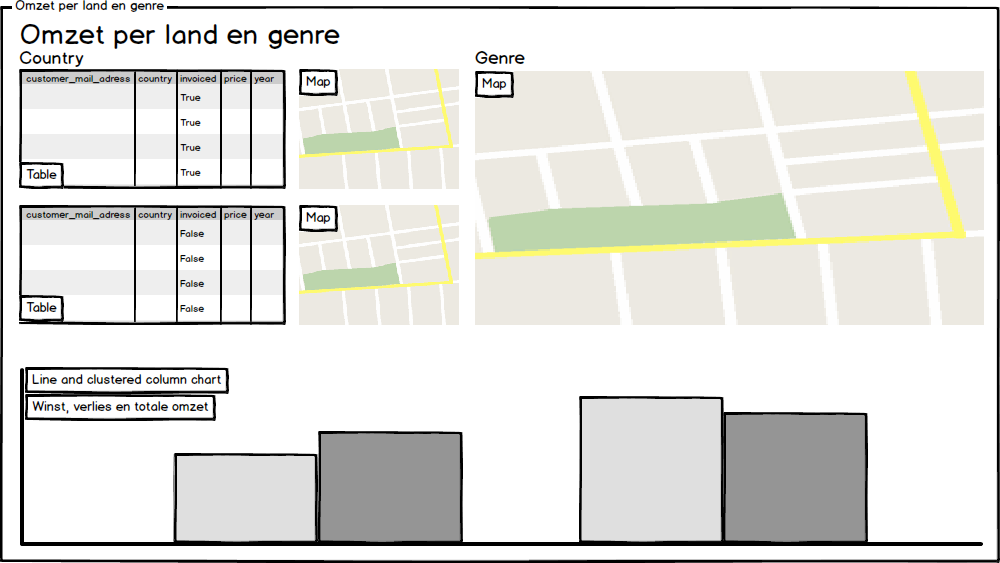

Layout of this report page (visuals, bound fields, positions):
{"tool":"powerbi","page":{"name":"Omzet per land en genre","canvas":[1280,720],"ordinal":1},"visuals":[{"type":"textbox","box":[10,0,391.9,48.1],"z":1},{"type":"tableEx","fields":{"Values":["Watchhistory.customer_mail_adress","Customer.country_name","Watchhistory.invoiced","Watchhistory.price","Watchhistory.watch_date.Variation.Date Hierarchy.Year"]},"box":[9.6,37.6,360.4,212.6],"z":2},{"type":"tableEx","fields":{"Values":["Watchhistory.customer_mail_adress","Customer.country_name","Watchhistory.invoiced","Watchhistory.price","Watchhistory.watch_date.Variation.Date Hierarchy.Year"]},"box":[9.6,259,360.4,250.2],"z":2},{"type":"map","fields":{"Category":["Customer.country_name"],"Size":["Watchhistory.price"],"Series":["Watchhistory.watch_date.Variation.Date Hierarchy.Year"]},"box":[377.9,30,280,210.8],"z":4},{"type":"map","fields":{"Category":["Customer.country_name"],"Size":["Watchhistory.price"],"Series":["Watchhistory.watch_date.Variation.Date Hierarchy.Year"]},"box":[377.7,260.9,279.7,249],"z":4},{"type":"map","fields":{"Category":["GenresPerCountry.country_name"],"Series":["GenresPerCountry.genre_name"],"Size":["GenresPerCountry.title"]},"box":[663,30,615,480],"z":6},{"type":"lineClusteredColumnComboChart","fields":{"Category":["TotaleOmzet.year"],"Y":["TotaleOmzet.total_profit","TotaleOmzet.total_loss"],"Y2":["TotaleOmzet.total_revenue"]},"box":[9.6,524,1266.8,196],"z":7}]}

Visuals, with their boxes in screenshot pixels (x1, y1, x2, y2), scaled from the page's 1280x720 canvas onto the 1000x563 screenshot:
textbox: pyautogui.locateOnScreen(8, 0, 314, 38)
tableEx - Watchhistory.customer_mail_adress x Customer.country_name: pyautogui.locateOnScreen(8, 29, 289, 196)
tableEx - Watchhistory.customer_mail_adress x Customer.country_name: pyautogui.locateOnScreen(8, 203, 289, 398)
map - Customer.country_name x Watchhistory.price: pyautogui.locateOnScreen(295, 23, 514, 188)
map - Customer.country_name x Watchhistory.price: pyautogui.locateOnScreen(295, 204, 514, 399)
map - GenresPerCountry.country_name x GenresPerCountry.genre_name: pyautogui.locateOnScreen(518, 23, 998, 399)
lineClusteredColumnComboChart - TotaleOmzet.year x TotaleOmzet.total_profit: pyautogui.locateOnScreen(8, 410, 997, 562)
